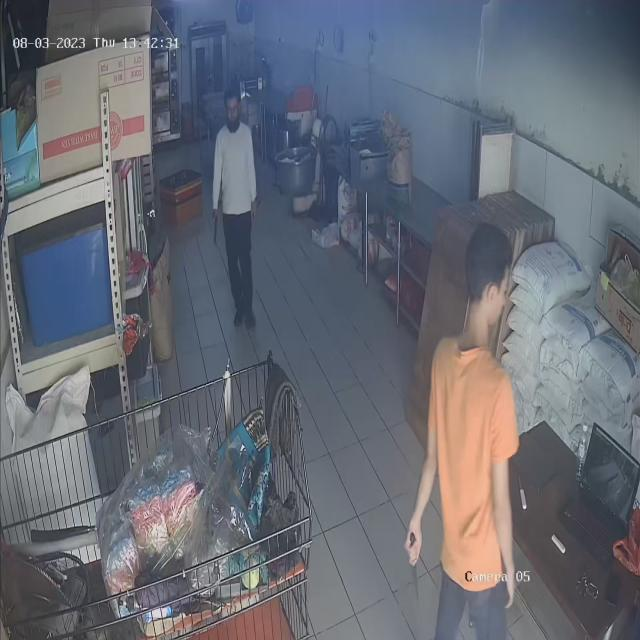Gun: (207, 211, 226, 247)
Knife: (386, 528, 433, 602)
